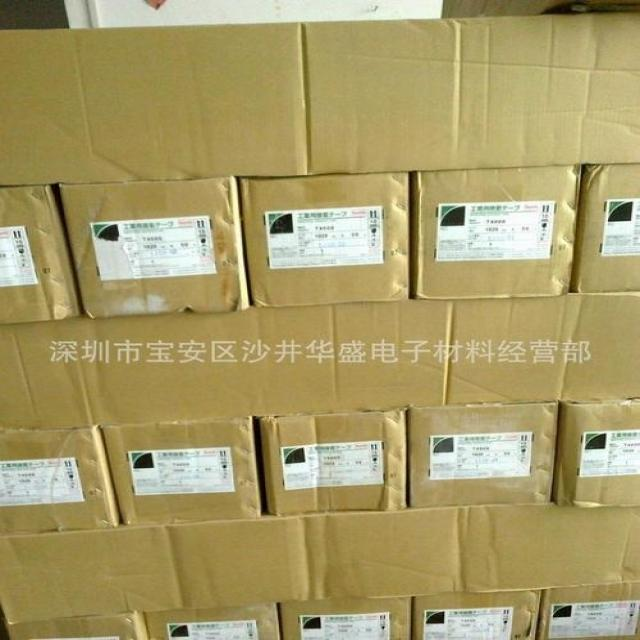box: (0, 15, 639, 183), (0, 294, 639, 432), (0, 504, 639, 626), (53, 179, 251, 316), (237, 175, 415, 309), (412, 170, 581, 298), (97, 418, 264, 527), (409, 405, 562, 507), (261, 414, 409, 515), (0, 428, 123, 537), (0, 185, 81, 324), (555, 400, 639, 510), (572, 166, 639, 294), (410, 585, 548, 639), (538, 580, 639, 638), (279, 597, 410, 638), (141, 603, 284, 639), (8, 614, 147, 639)
